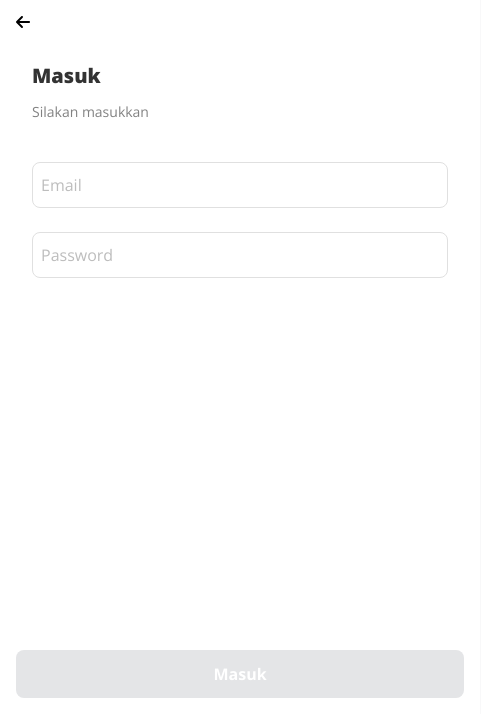
it: Login › should enable submit button when input email with correct format
Expected: the button with test id "button-submit" is disabled, [16, 650, 464, 698]
Type "email@mail.com" into the field with test id "input-email". click: point(240, 185)
box: [32, 162, 448, 208]
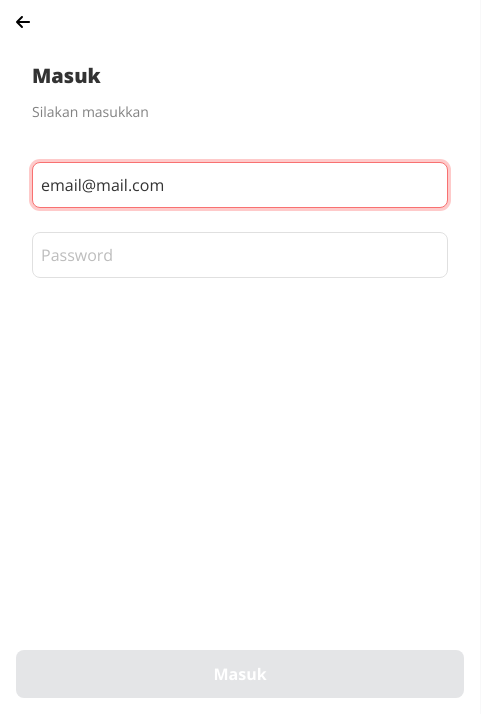
Type "abcdefg" into the password field with test id "input-password". click: point(240, 255)
box: [32, 232, 448, 278]
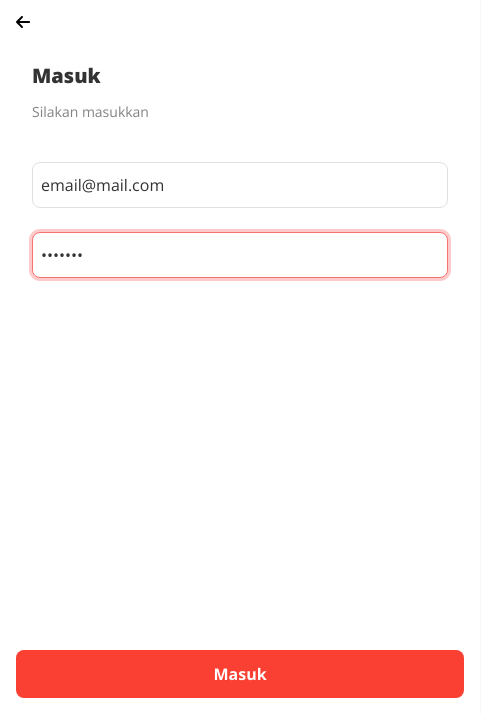
Now the button with test id "button-submit" is enabled, box [16, 650, 464, 698]
